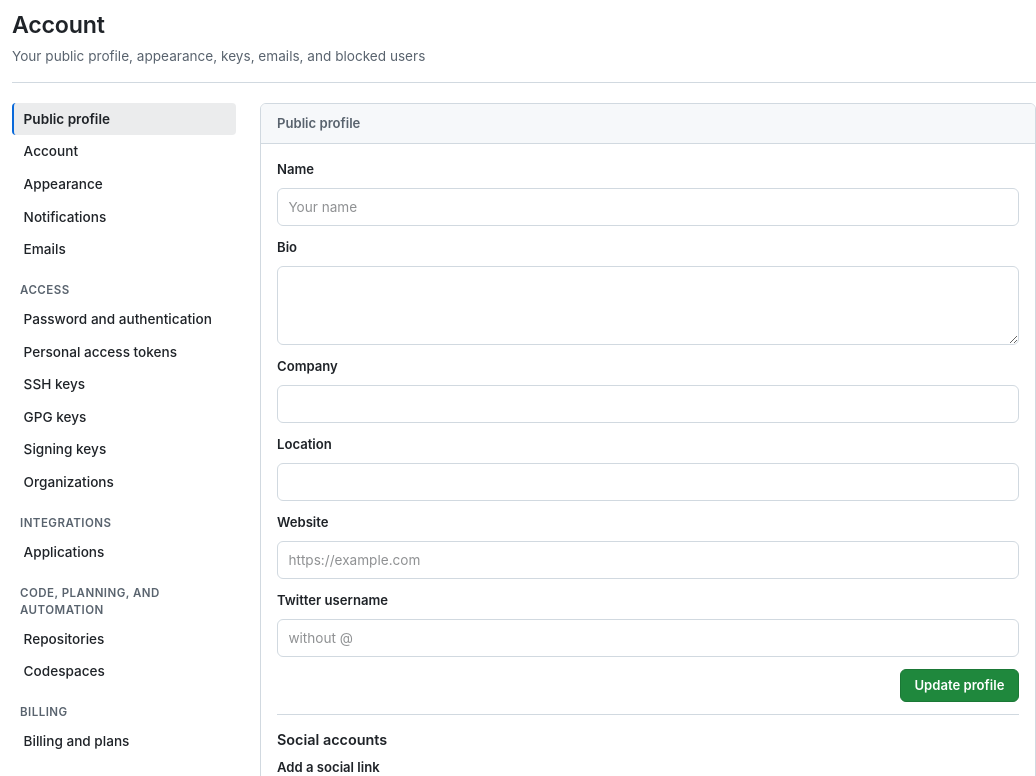
Test: AccountPage › renders a left settings sub-nav and marks the active item
This screenshot has width=1036, height=776.
Click the button "SSH keys" at x=124, y=384, box [12,368,236,400]
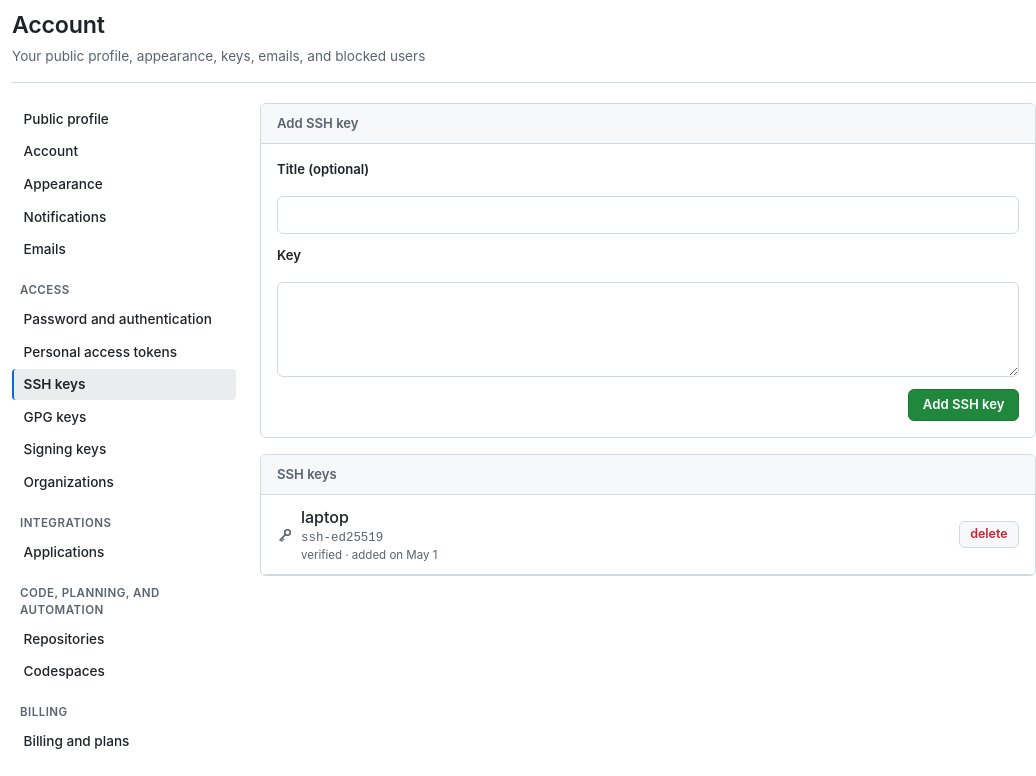
Expected: the text "Access" is shown, [20,283,70,297]
Expected: the text "laptop" is shown, [301,507,349,527]
Click the button "Emails" at x=124, y=249, box [12,234,236,265]
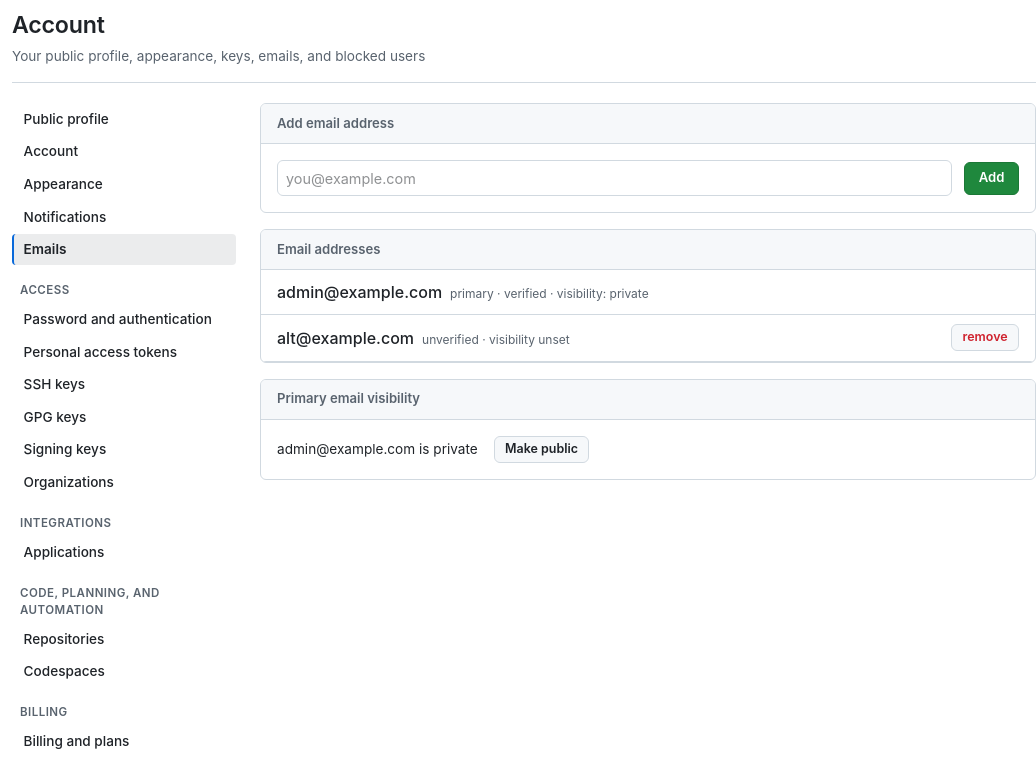
Expected: the text "admin@example.com" is shown, [277,282,442,302]
